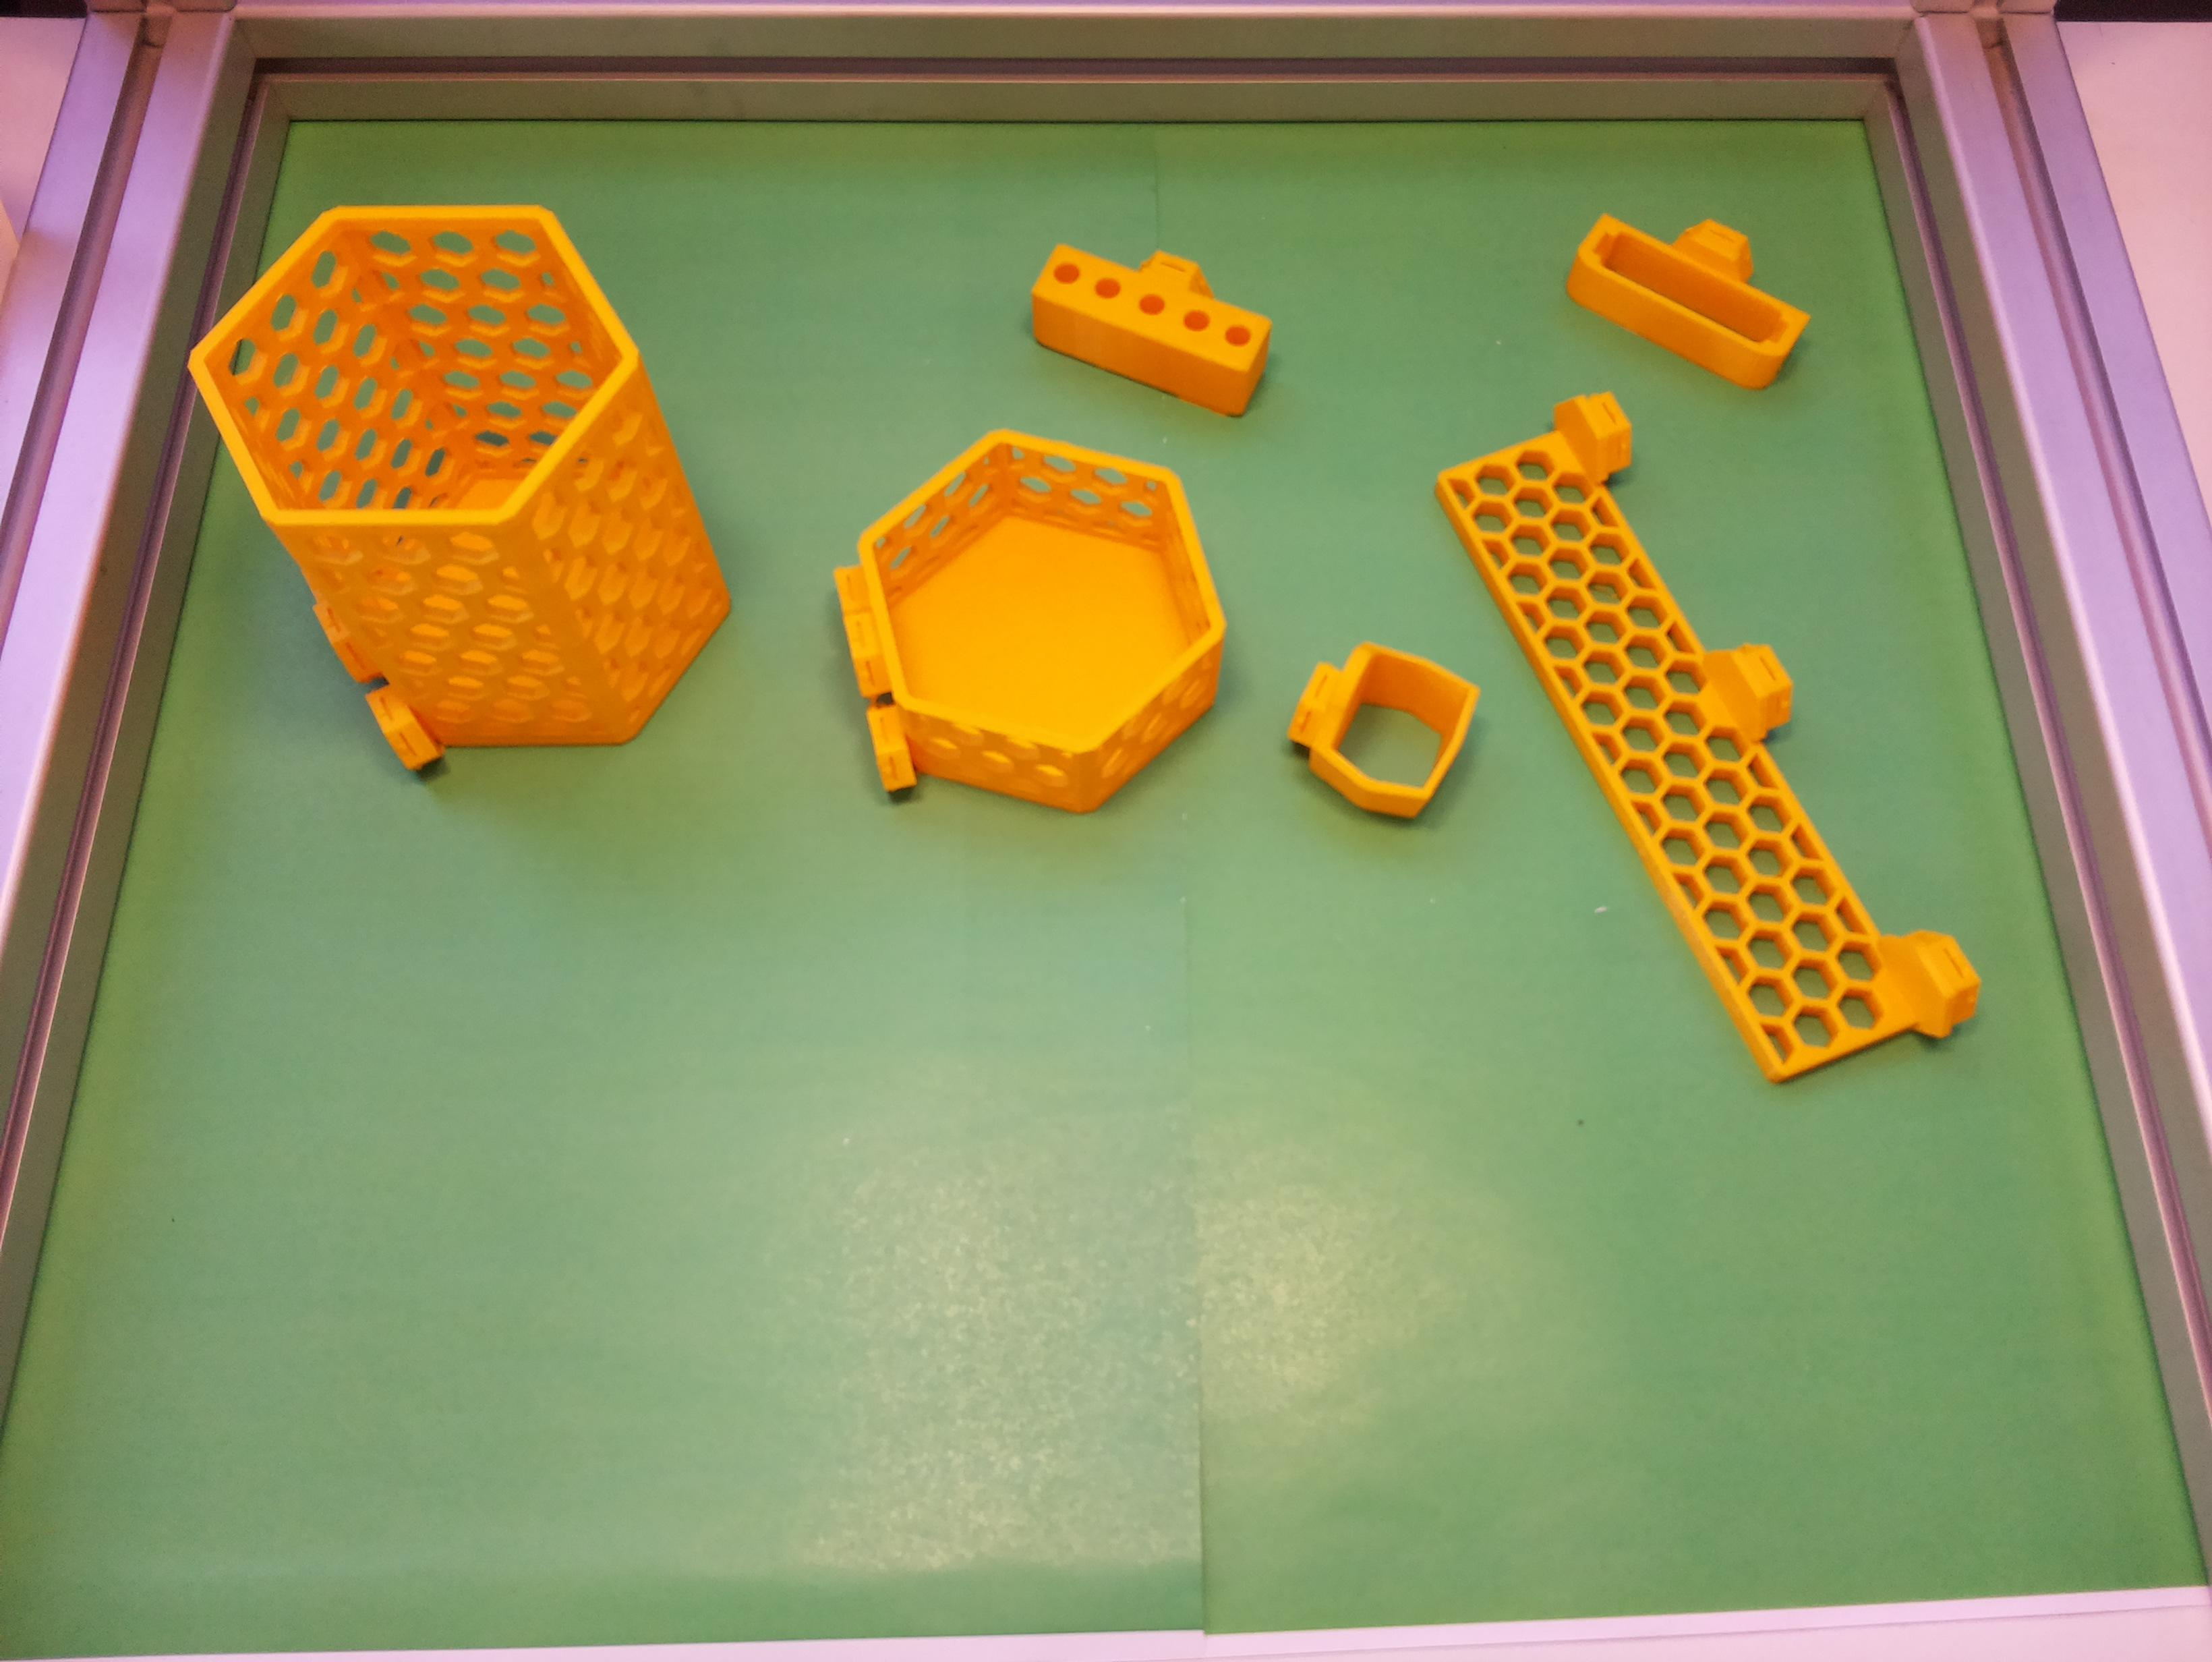bit_holder: (1013, 215, 1290, 422)
bottle_holder: (791, 382, 1267, 869)
cup_holder: (154, 117, 787, 841)
cutter_holder: (1556, 175, 1830, 400)
scissor_holder: (1271, 620, 1487, 834)
tool_holder: (1400, 374, 1996, 1130)
